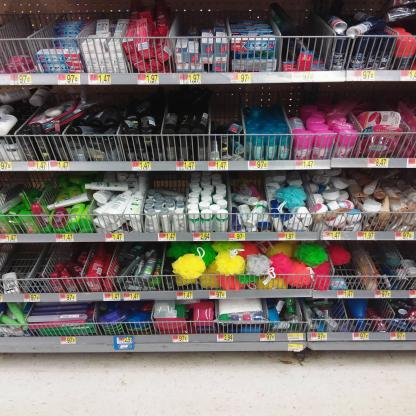Void: (279, 6, 326, 50), (7, 251, 53, 294), (10, 10, 36, 48)
